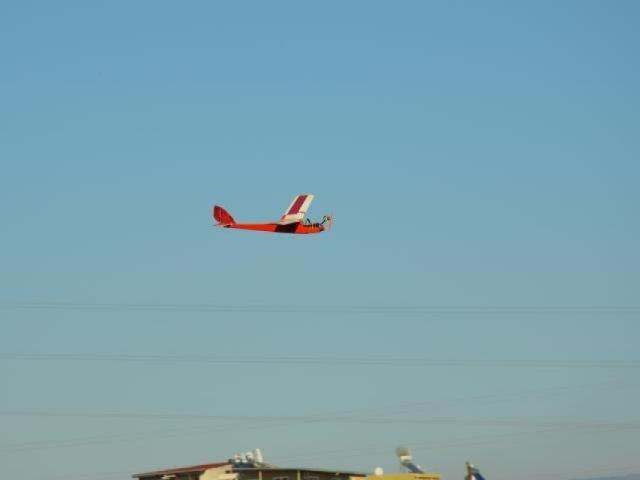iha: (204, 190, 337, 241)
